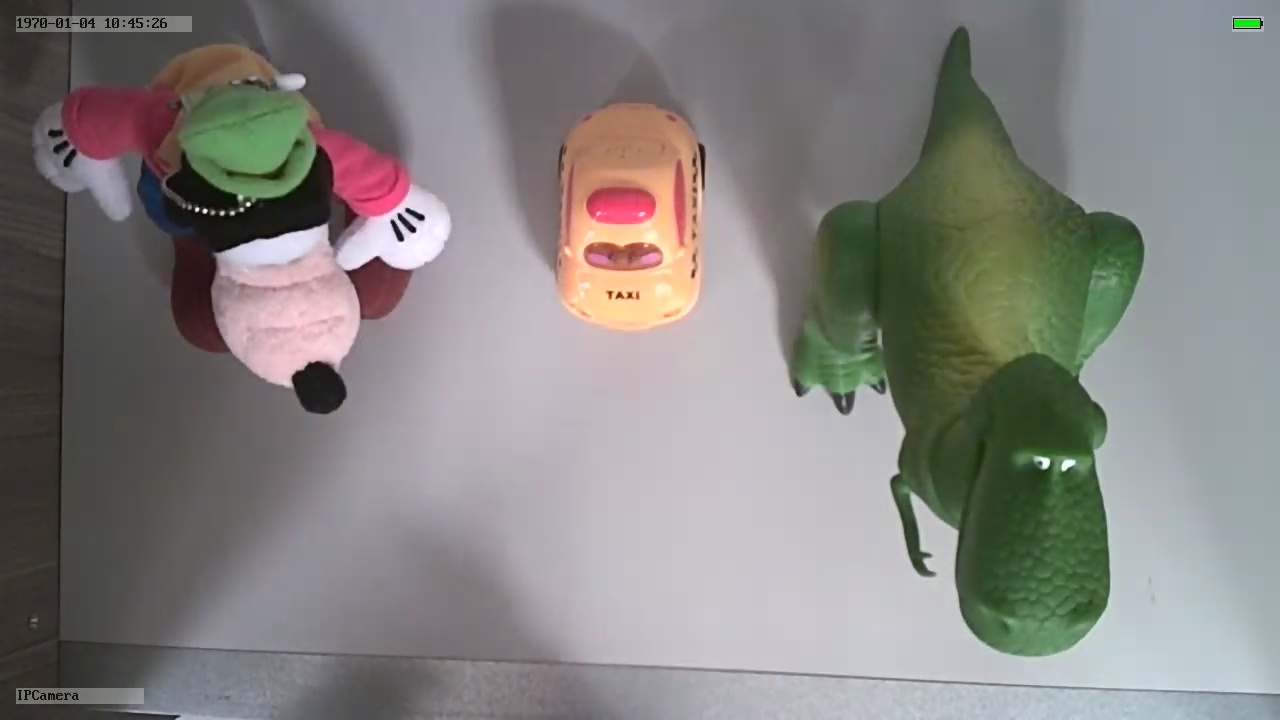car: (553, 95, 710, 334)
goofy: (34, 42, 456, 413)
rex: (793, 113, 1143, 659)
